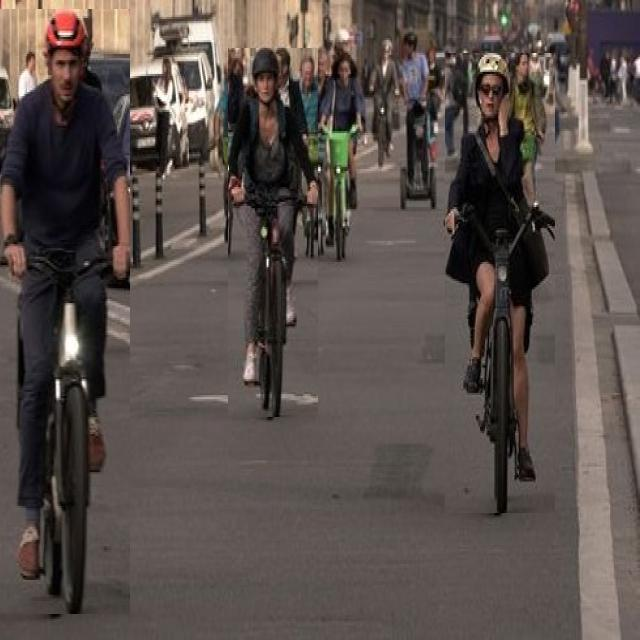bicycle: (0, 10, 130, 614), (445, 53, 555, 513), (229, 49, 318, 417)
